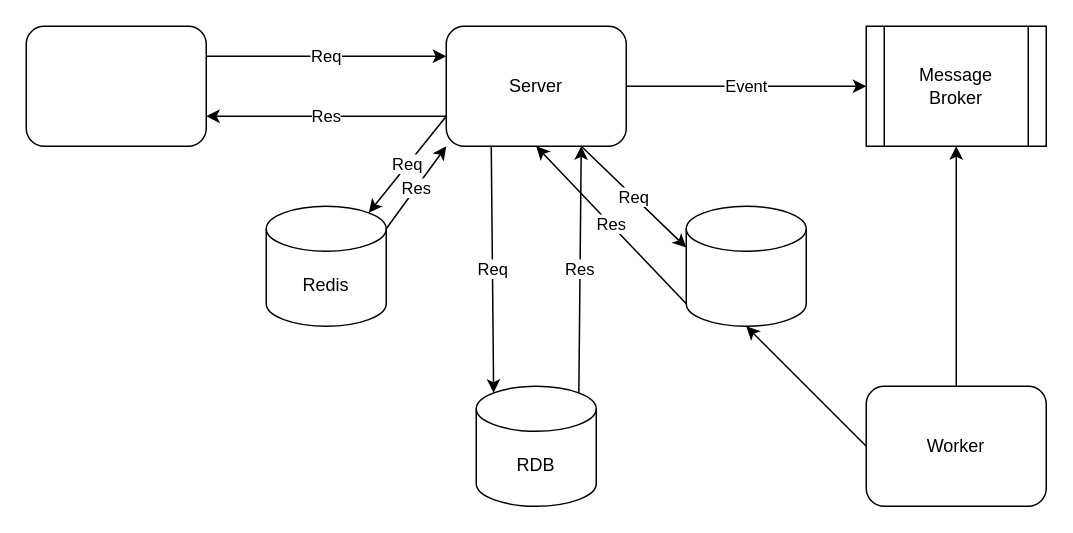
Image size: 1073x533. Some labels were removed from this diagram. Each missing label, with the box of its shape:
Client: (25, 25, 206, 146)
Elasticsearch: (685, 205, 806, 326)
